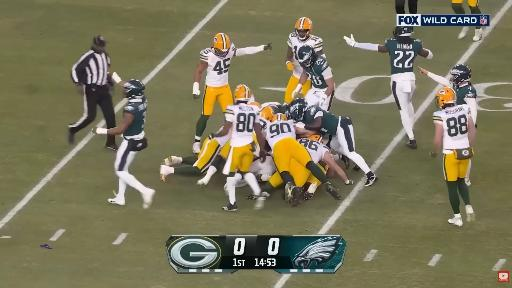Helmet: (288, 98, 307, 121), (212, 33, 230, 57), (295, 17, 313, 41), (449, 65, 471, 84), (436, 87, 455, 108), (123, 80, 145, 98), (297, 45, 315, 66), (234, 85, 254, 102), (394, 26, 413, 38), (260, 107, 274, 121), (272, 114, 287, 122), (308, 134, 322, 141)
Jersey: (433, 105, 470, 153), (200, 43, 235, 87), (288, 33, 322, 78), (225, 104, 259, 147), (385, 39, 422, 74), (303, 106, 339, 135), (301, 56, 332, 89), (123, 97, 147, 138), (266, 120, 295, 151), (298, 139, 329, 163), (453, 82, 477, 105), (213, 134, 230, 147), (261, 102, 281, 109), (260, 118, 270, 131)
Player: (344, 27, 433, 149), (193, 33, 271, 153), (92, 73, 154, 208), (290, 100, 377, 186), (265, 114, 341, 205), (431, 87, 475, 226), (214, 98, 265, 210), (420, 65, 477, 126), (285, 18, 325, 103), (160, 136, 229, 182), (292, 45, 334, 110), (298, 135, 353, 184), (197, 135, 230, 185), (250, 155, 275, 182), (452, 0, 465, 14), (395, 0, 405, 14)
